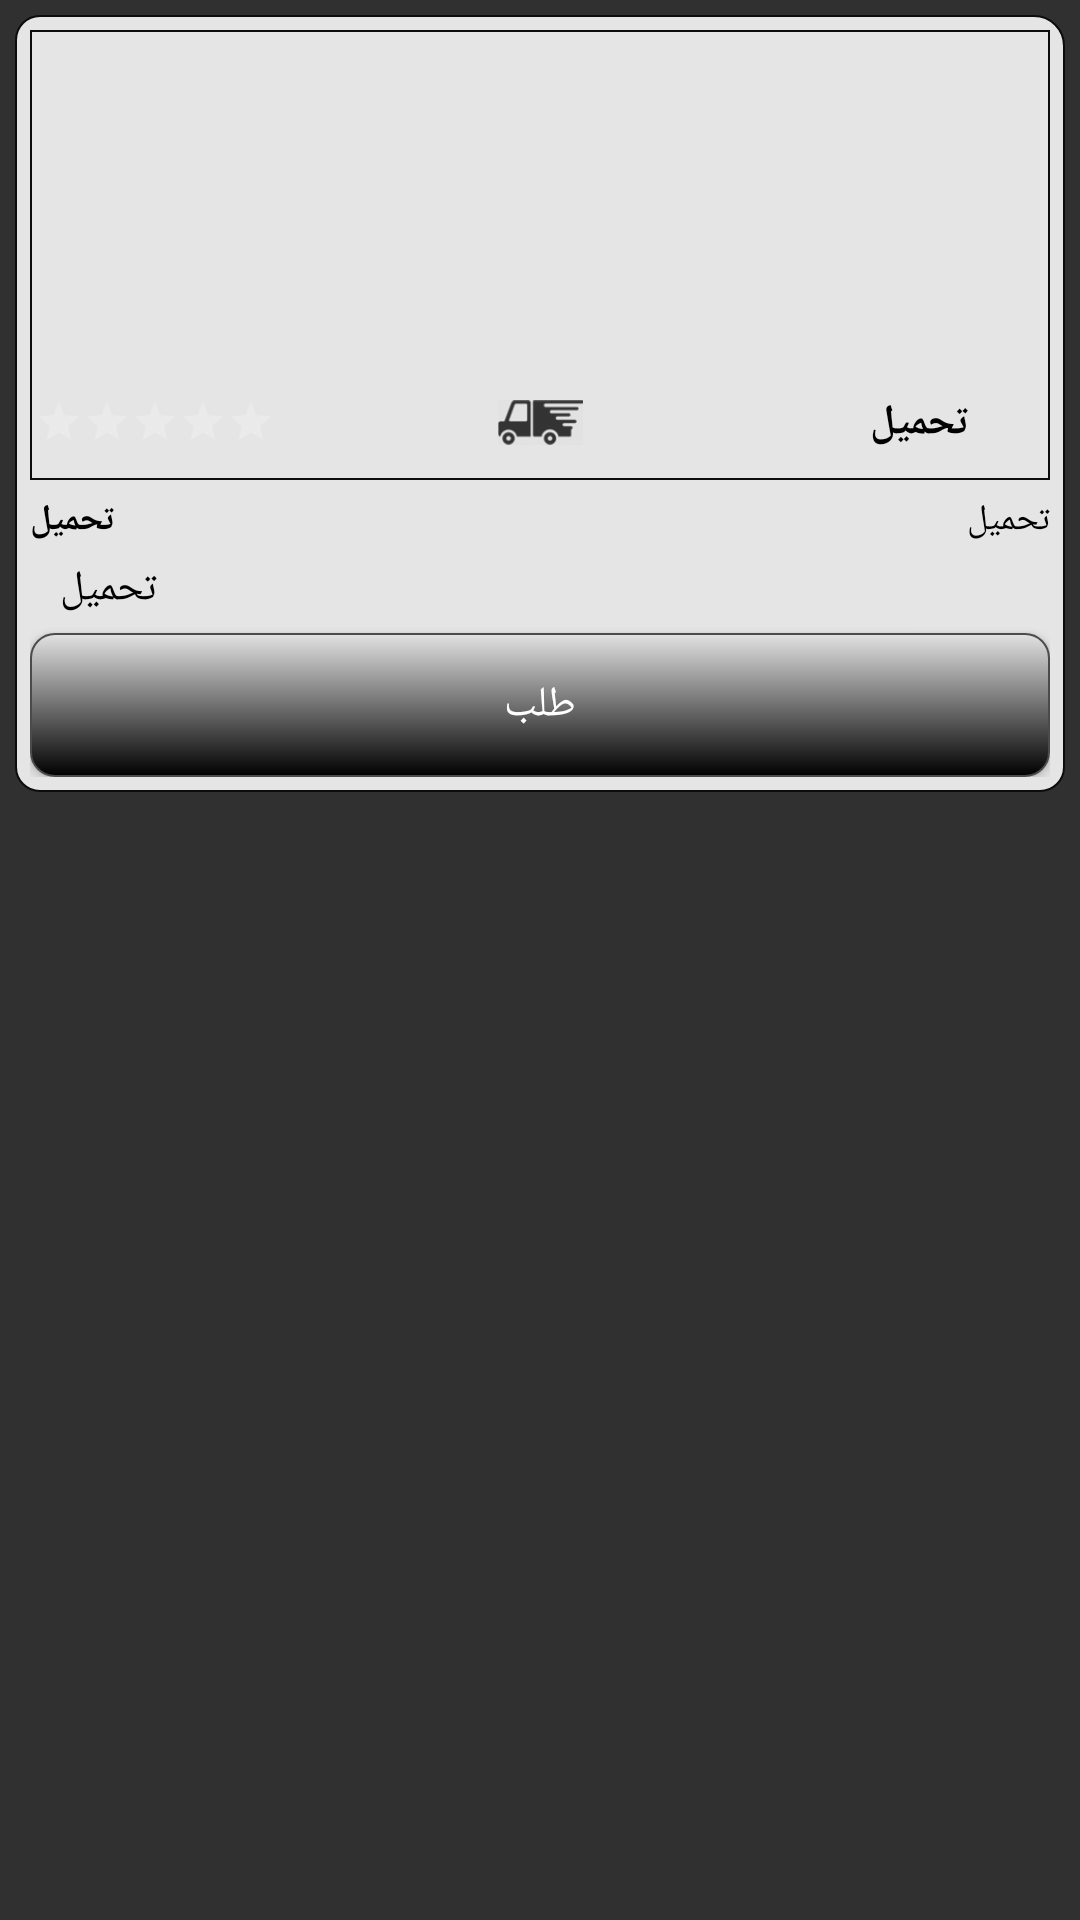

Named icons in this screenshot (1080px x 1920px) and their bounding boxes, Rect(x1, y1, x2, y2):
deliverable: Rect(498, 400, 583, 445)
